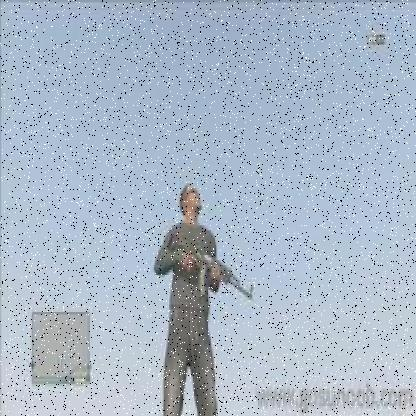rifle: (171, 231, 255, 310)
